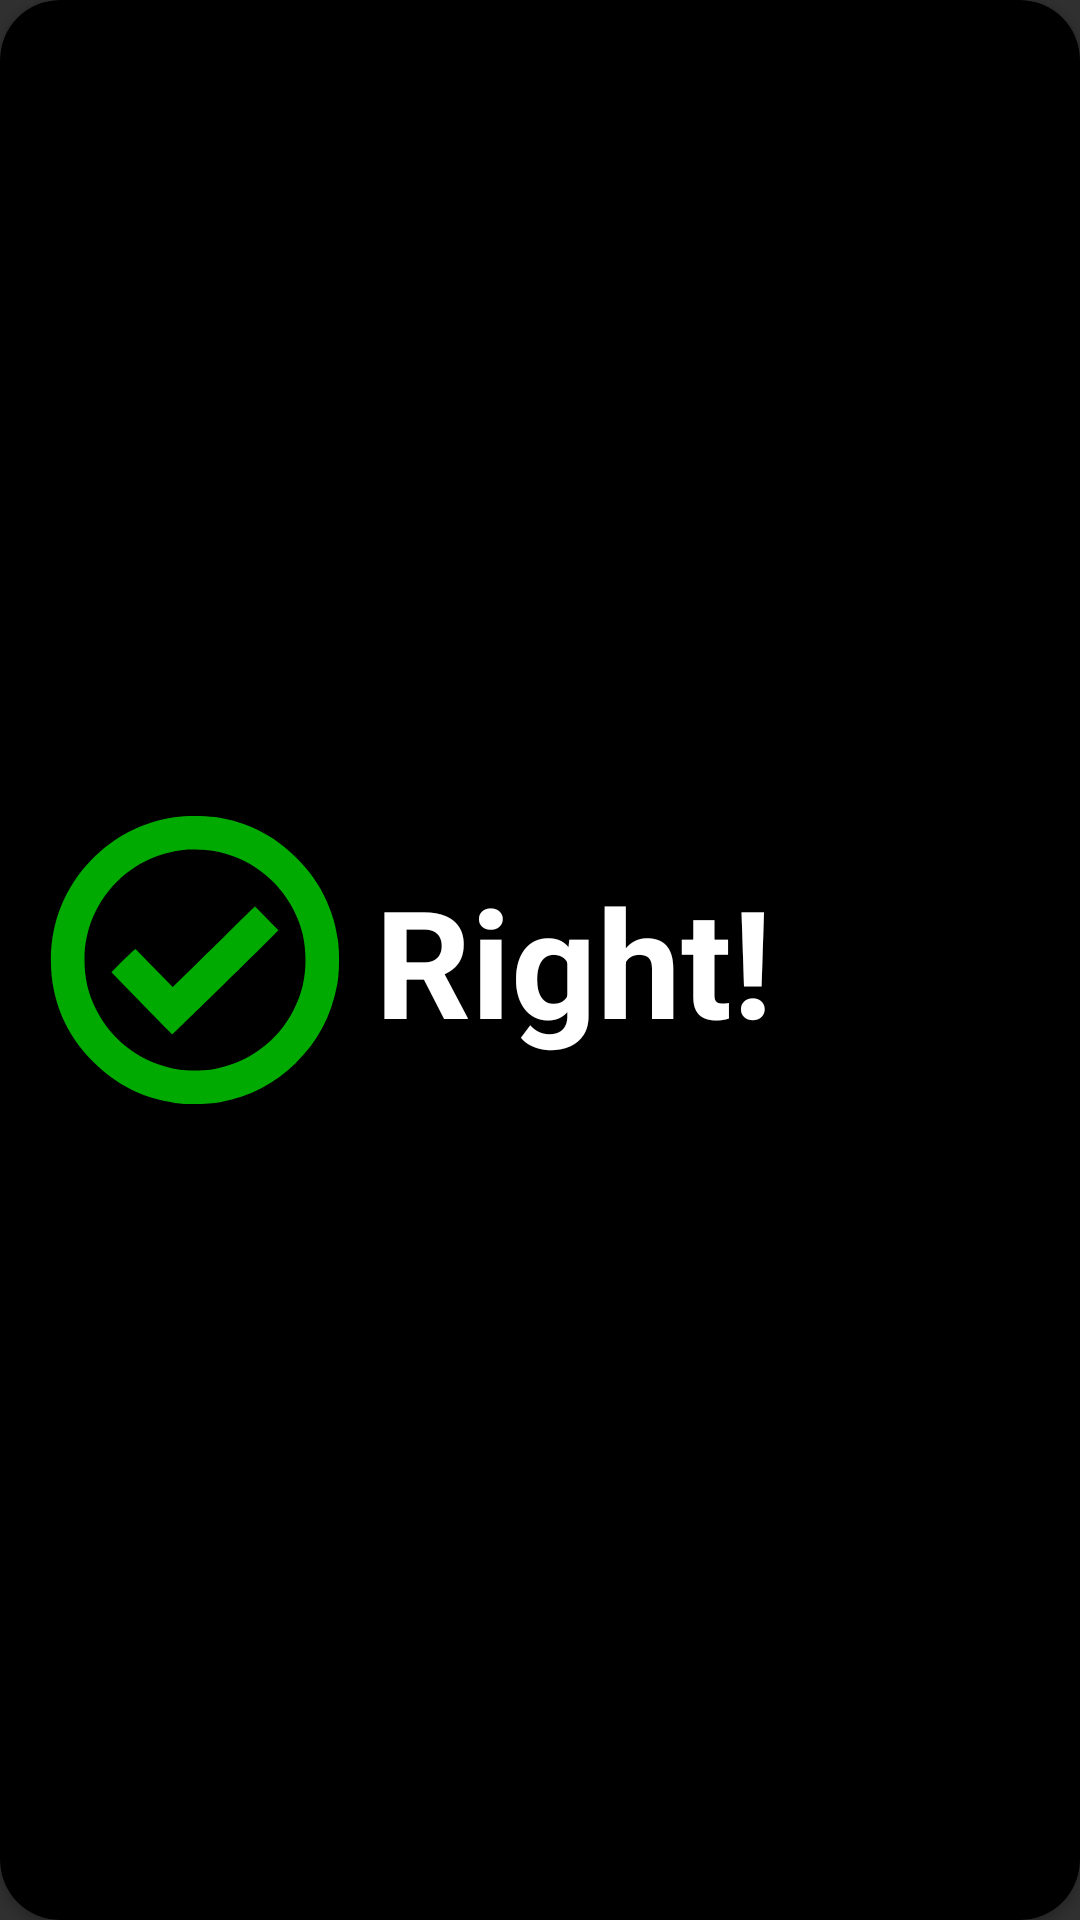

Icons on this 1080*1920 Android screen, each with the point to tap as [x,y]:
tick: [195,960]
